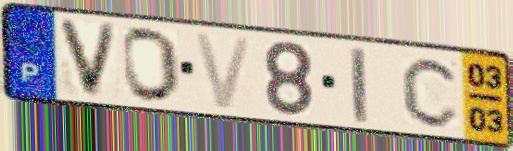8: (261, 39, 316, 118)
C: (399, 54, 462, 130)
I: (347, 43, 371, 126)
O: (120, 25, 183, 105)
V: (54, 16, 122, 101), (191, 30, 256, 112)
